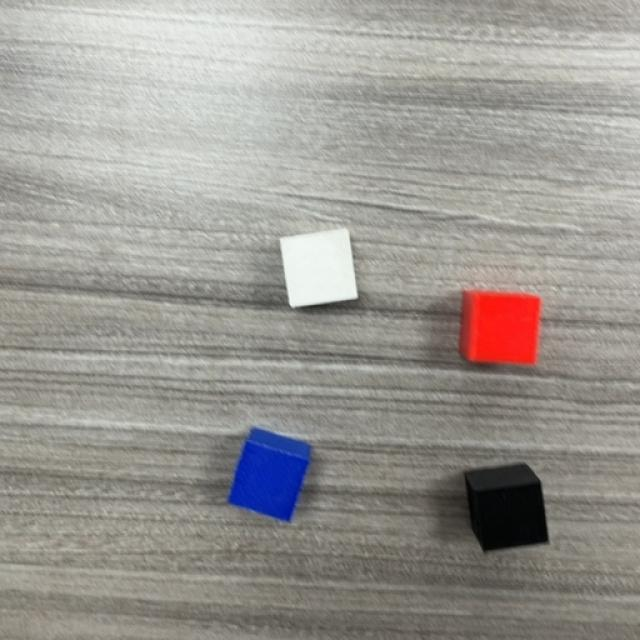Azul: (230, 438, 311, 525)
Blanco: (282, 231, 359, 308)
Negro: (477, 482, 551, 552)
Rojo: (462, 297, 542, 363)
